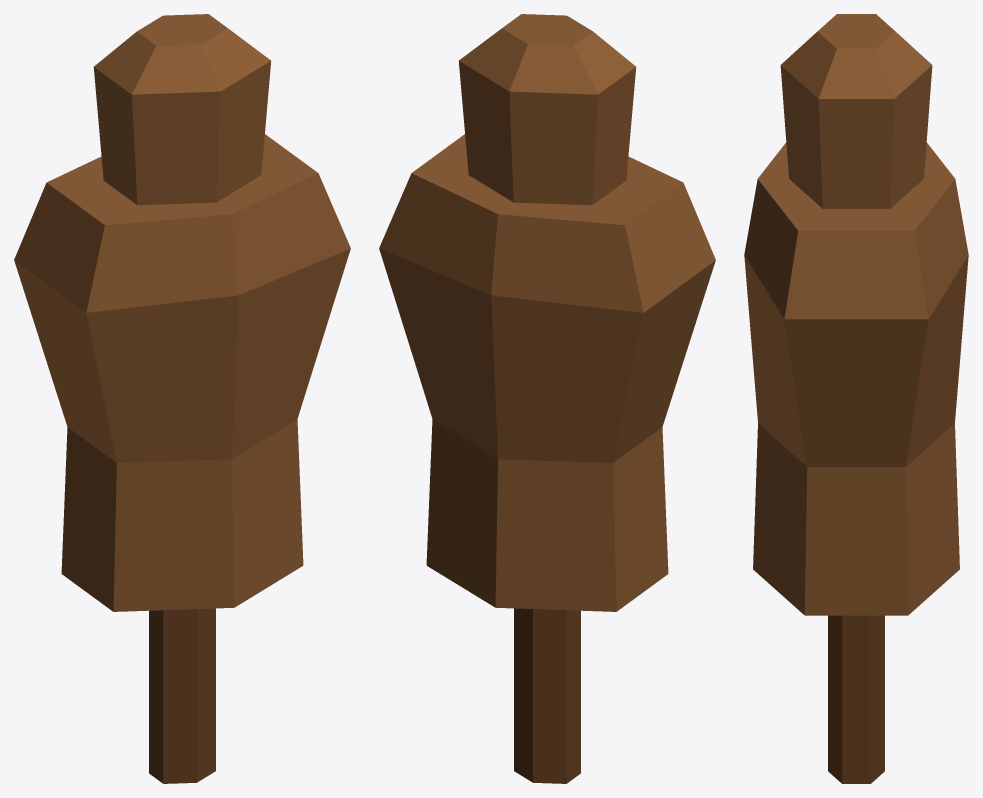
File: dummy.glb
The picture shows the model from 3 angles, left to right: view 1: azimuth 30°, elevation 25°; view 2: azimuth 150°, elevation 25°; view 3: azimuth 270°, elevation 25°; orthographic projection.
Visible parts, largest first — view 1: Dummy; view 2: Dummy; view 3: Dummy.
Part boxes in pixels (x1,y1,x2,y2): Dummy: (14, 14, 350, 783); Dummy: (379, 14, 715, 783); Dummy: (744, 14, 968, 783).
Bounding box in the file's own units: 0.4302 × 1.15 × 0.3172.
